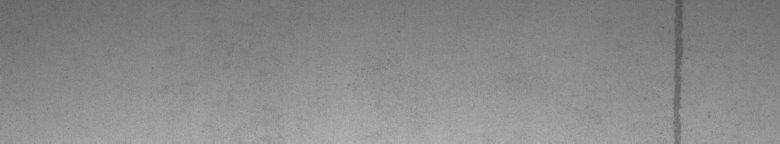hd: (668, 4, 690, 136)
